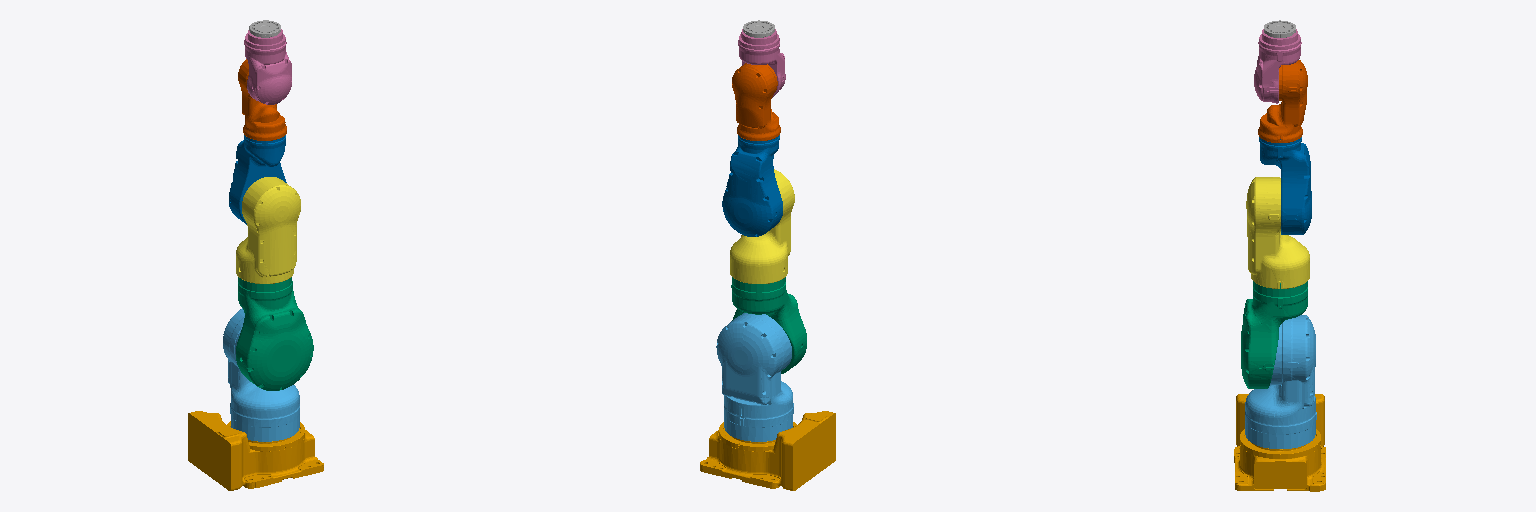
The robot description file, URDF, robot "sia20":
<?xml version="1.0" encoding="utf-8"?>
<!-- =================================================================================== -->
<!-- |    This document was autogenerated by xacro from sia20_with_gripper.urdf.xacro  | -->
<!-- |    EDITING THIS FILE BY HAND IS NOT RECOMMENDED                                 | -->
<!-- =================================================================================== -->
<robot name="sia20" xmlns:xacro="http://www.ros.org/wiki/xacro">
  <!-- base_link-->
  <link name="base_link">
    <inertial>
      <mass value="1.0"/>
      <origin rpy="0 0 0" xyz="0 0 0"/>
      <geometry>
        <mesh filename="package://sia20_description/meshes/base_link.STL"/>
      </geometry>
      <inertia ixx="0.001" ixy="0.001" ixz="0.001" iyy="0.001" iyz="0.001" izz="0.001"/>
    </inertial>
    <visual>
      <origin rpy="0 0 0" xyz="0 0 0"/>
      <geometry>
        <mesh filename="package://sia20_description/meshes/base_link.STL"/>
      </geometry>
      <material name="white"/>
    </visual>
    <collision>
      <origin rpy="0 0 0" xyz="0 0 0"/>
      <geometry>
        <mesh filename="package://sia20_description/meshes/base_link.STL"/>
      </geometry>
    </collision>
  </link>
  <!-- link_s-->
  <link name="link_s">
    <inertial>
      <mass value="1.0"/>
      <origin rpy="0 0 0" xyz="7.8023E-07 0.18911 -0.015611"/>
      <geometry>
        <mesh filename="package://sia20_description/meshes/link_s.STL"/>
      </geometry>
      <inertia ixx="0.001" ixy="0.001" ixz="0.001" iyy="0.001" iyz="0.001" izz="0.001"/>
    </inertial>
    <visual>
      <origin rpy="0 0 0" xyz="0 0 0"/>
      <geometry>
        <mesh filename="package://sia20_description/meshes/link_s.STL"/>
      </geometry>
      <material name="white"/>
    </visual>
    <collision>
      <origin rpy="0 0 0" xyz="0 0 0"/>
      <geometry>
        <mesh filename="package://sia20_description/meshes/link_s.STL"/>
      </geometry>
    </collision>
  </link>
  <!-- joint_s (base_link | joint_s) -->
  <joint name="joint_s" type="revolute">
    <origin rpy="1.5708 0 0" xyz="0 0 0.112"/>
    <parent link="base_link"/>
    <child link="link_s"/>
    <axis xyz="0 1 0"/>
    <limit effort="100" lower="-3.1415" upper="3.1415" velocity="2.2698"/>
    <!--
		<calibration rising="0" falling="0"/>
		<dynamics damping="0" fraction="0"/>
		<safety_controller soft_upper="0" soft_lower="0" k_position="0" k_velocity="0"/>
		-->
  </joint>
  <transmission name="joint_s_trans">
    <type>transimission_interface/SimpleTransmission</type>
    <joint name="joint_s">
      <hardwareInterface>hardware_interface/EffortJointInterface</hardwareInterface>
    </joint>
    <actuator name="joint_s_motor">
      <hardwareInterface>hardware_interface/EffortJointInterface</hardwareInterface>
      <mechanicalReduction>1</mechanicalReduction>
    </actuator>
  </transmission>
  <!-- link_l-->
  <link name="link_l">
    <inertial>
      <mass value="1.0"/>
      <origin rpy="0 0 0" xyz="1.6057E-05 0.10201 0.041335"/>
      <geometry>
        <mesh filename="package://sia20_description/meshes/link_l.STL"/>
      </geometry>
      <inertia ixx="0.001" ixy="0.001" ixz="0.001" iyy="0.001" iyz="0.001" izz="0.001"/>
    </inertial>
    <visual>
      <origin rpy="0 0 0" xyz="0 0 0"/>
      <geometry>
        <mesh filename="package://sia20_description/meshes/link_l.STL"/>
      </geometry>
      <material name="white"/>
    </visual>
    <collision>
      <origin rpy="0 0 0" xyz="0 0 0"/>
      <geometry>
        <mesh filename="package://sia20_description/meshes/link_l.STL"/>
      </geometry>
    </collision>
  </link>
  <!-- joint_l (link_s | joint_l) -->
  <joint name="joint_l" type="revolute">
    <origin rpy="0 0 0" xyz="0 0.298 0"/>
    <parent link="link_s"/>
    <child link="link_l"/>
    <axis xyz="0 0 1"/>
    <limit effort="100" lower="-1.9198" upper="1.9198" velocity="2.2698"/>
    <!--
		<calibration rising="0" falling="0"/>
		<dynamics damping="0" fraction="0"/>
		<safety_controller soft_upper="0" soft_lower="0" k_position="0" k_velocity="0"/>
		-->
  </joint>
  <transmission name="joint_l_trans">
    <type>transimission_interface/SimpleTransmission</type>
    <joint name="joint_l">
      <hardwareInterface>hardware_interface/EffortJointInterface</hardwareInterface>
    </joint>
    <actuator name="joint_l_motor">
      <hardwareInterface>hardware_interface/EffortJointInterface</hardwareInterface>
      <mechanicalReduction>1</mechanicalReduction>
    </actuator>
  </transmission>
  <!-- link_e-->
  <link name="link_e">
    <inertial>
      <mass value="1.0"/>
      <origin rpy="0 0 0" xyz="3.9186E-05 0.16471 0.020774"/>
      <geometry>
        <mesh filename="package://sia20_description/meshes/link_e.STL"/>
      </geometry>
      <inertia ixx="0.001" ixy="0.001" ixz="0.001" iyy="0.001" iyz="0.001" izz="0.001"/>
    </inertial>
    <visual>
      <origin rpy="0 0 0" xyz="0 0 0"/>
      <geometry>
        <mesh filename="package://sia20_description/meshes/link_e.STL"/>
      </geometry>
      <material name="white"/>
    </visual>
    <collision>
      <origin rpy="0 0 0" xyz="0 0 0"/>
      <geometry>
        <mesh filename="package://sia20_description/meshes/link_e.STL"/>
      </geometry>
    </collision>
  </link>
  <!-- joint_e (link_l | joint_e) -->
  <joint name="joint_e" type="revolute">
    <origin rpy="0 0 0" xyz="0 0.247135547651375 0"/>
    <parent link="link_l"/>
    <child link="link_e"/>
    <axis xyz="0 1 0"/>
    <limit effort="100" lower="-2.967" upper="2.967" velocity="2.2698"/>
    <!--
		<calibration rising="0" falling="0"/>
		<dynamics damping="0" fraction="0"/>
		<safety_controller soft_upper="0" soft_lower="0" k_position="0" k_velocity="0"/>
		-->
  </joint>
  <transmission name="joint_e_trans">
    <type>transimission_interface/SimpleTransmission</type>
    <joint name="joint_e">
      <hardwareInterface>hardware_interface/EffortJointInterface</hardwareInterface>
    </joint>
    <actuator name="joint_e_motor">
      <hardwareInterface>hardware_interface/EffortJointInterface</hardwareInterface>
      <mechanicalReduction>1</mechanicalReduction>
    </actuator>
  </transmission>
  <!-- link_u-->
  <link name="link_u">
    <inertial>
      <mass value="1.0"/>
      <origin rpy="0 0 0" xyz="-7.9992E-07 0.08472 -0.032542"/>
      <geometry>
        <mesh filename="package://sia20_description/meshes/link_u.STL"/>
      </geometry>
      <inertia ixx="0.001" ixy="0.001" ixz="0.001" iyy="0.001" iyz="0.001" izz="0.001"/>
    </inertial>
    <visual>
      <origin rpy="0 0 0" xyz="0 0 0"/>
      <geometry>
        <mesh filename="package://sia20_description/meshes/link_u.STL"/>
      </geometry>
      <material name="white"/>
    </visual>
    <collision>
      <origin rpy="0 0 0" xyz="0 0 0"/>
      <geometry>
        <mesh filename="package://sia20_description/meshes/link_u.STL"/>
      </geometry>
    </collision>
  </link>
  <!-- joint_u (link_e | joint_u) -->
  <joint name="joint_u" type="revolute">
    <origin rpy="0 0 0" xyz="0 0.242864452348634 0"/>
    <parent link="link_e"/>
    <child link="link_u"/>
    <axis xyz="0 0 1"/>
    <limit effort="100" lower="-2.967" upper="2.967" velocity="2.2698"/>
    <!--
		<calibration rising="0" falling="0"/>
		<dynamics damping="0" fraction="0"/>
		<safety_controller soft_upper="0" soft_lower="0" k_position="0" k_velocity="0"/>
		-->
  </joint>
  <transmission name="joint_u_trans">
    <type>transimission_interface/SimpleTransmission</type>
    <joint name="joint_u">
      <hardwareInterface>hardware_interface/EffortJointInterface</hardwareInterface>
    </joint>
    <actuator name="joint_u_motor">
      <hardwareInterface>hardware_interface/EffortJointInterface</hardwareInterface>
      <mechanicalReduction>1</mechanicalReduction>
    </actuator>
  </transmission>
  <!-- link_r-->
  <link name="link_r">
    <inertial>
      <mass value="1.0"/>
      <origin rpy="0 0 0" xyz="4.8678E-06 0.12569 -0.02028"/>
      <geometry>
        <mesh filename="package://sia20_description/meshes/link_r.STL"/>
      </geometry>
      <inertia ixx="0.001" ixy="0.001" ixz="0.001" iyy="0.001" iyz="0.001" izz="0.001"/>
    </inertial>
    <visual>
      <origin rpy="0 0 0" xyz="0 0 0"/>
      <geometry>
        <mesh filename="package://sia20_description/meshes/link_r.STL"/>
      </geometry>
      <material name="white"/>
    </visual>
    <collision>
      <origin rpy="0 0 0" xyz="0 0 0"/>
      <geometry>
        <mesh filename="package://sia20_description/meshes/link_r.STL"/>
      </geometry>
    </collision>
  </link>
  <!-- joint_r (link_u | joint_r) -->
  <joint name="joint_r" type="revolute">
    <origin rpy="0 0 0" xyz="0 0.23899999999989 0"/>
    <parent link="link_u"/>
    <child link="link_r"/>
    <axis xyz="0 1 0"/>
    <limit effort="100" lower="-3.1415" upper="3.1415" velocity="3.4906"/>
    <!--
		<calibration rising="0" falling="0"/>
		<dynamics damping="0" fraction="0"/>
		<safety_controller soft_upper="0" soft_lower="0" k_position="0" k_velocity="0"/>
		-->
  </joint>
  <transmission name="joint_r_trans">
    <type>transimission_interface/SimpleTransmission</type>
    <joint name="joint_r">
      <hardwareInterface>hardware_interface/EffortJointInterface</hardwareInterface>
    </joint>
    <actuator name="joint_r_motor">
      <hardwareInterface>hardware_interface/EffortJointInterface</hardwareInterface>
      <mechanicalReduction>1</mechanicalReduction>
    </actuator>
  </transmission>
  <!-- link_b-->
  <link name="link_b">
    <inertial>
      <mass value="1.0"/>
      <origin rpy="0 0 0" xyz="5.1667E-06 0.069849 0.019496"/>
      <geometry>
        <mesh filename="package://sia20_description/meshes/link_b.STL"/>
      </geometry>
      <inertia ixx="0.001" ixy="0.001" ixz="0.001" iyy="0.001" iyz="0.001" izz="0.001"/>
    </inertial>
    <visual>
      <origin rpy="0 0 0" xyz="0 0 0"/>
      <geometry>
        <mesh filename="package://sia20_description/meshes/link_b.STL"/>
      </geometry>
      <material name="white"/>
    </visual>
    <collision>
      <origin rpy="0 0 0" xyz="0 0 0"/>
      <geometry>
        <mesh filename="package://sia20_description/meshes/link_b.STL"/>
      </geometry>
    </collision>
  </link>
  <!-- joint_b (link_r | joint_b) -->
  <joint name="joint_b" type="revolute">
    <origin rpy="0 0 0" xyz="0 0.181 0"/>
    <parent link="link_r"/>
    <child link="link_b"/>
    <axis xyz="0 0 1"/>
    <limit effort="100" lower="-1.9198" upper="1.9198" velocity="3.4906"/>
    <!--
		<calibration rising="0" falling="0"/>
		<dynamics damping="0" fraction="0"/>
		<safety_controller soft_upper="0" soft_lower="0" k_position="0" k_velocity="0"/>
		-->
  </joint>
  <transmission name="joint_b_trans">
    <type>transimission_interface/SimpleTransmission</type>
    <joint name="joint_b">
      <hardwareInterface>hardware_interface/EffortJointInterface</hardwareInterface>
    </joint>
    <actuator name="joint_b_motor">
      <hardwareInterface>hardware_interface/EffortJointInterface</hardwareInterface>
      <mechanicalReduction>1</mechanicalReduction>
    </actuator>
  </transmission>
  <!-- link_t-->
  <link name="link_t">
    <inertial>
      <mass value="1.0"/>
      <origin rpy="0 0 0" xyz="-0.00019051 0.0087466 -2.475E-05"/>
      <geometry>
        <mesh filename="package://sia20_description/meshes/link_t.STL"/>
      </geometry>
      <inertia ixx="0.001" ixy="0.001" ixz="0.001" iyy="0.001" iyz="0.001" izz="0.001"/>
    </inertial>
    <visual>
      <origin rpy="0 0 0" xyz="0 0 0"/>
      <geometry>
        <mesh filename="package://sia20_description/meshes/link_t.STL"/>
      </geometry>
      <material name="white"/>
    </visual>
    <collision>
      <origin rpy="0 0 0" xyz="0 0 0"/>
      <geometry>
        <mesh filename="package://sia20_description/meshes/link_t.STL"/>
      </geometry>
    </collision>
  </link>
  <!-- joint_t (link_b | joint_t) -->
  <joint name="joint_t" type="revolute">
    <origin rpy="0 0 0" xyz="0 0.164069662461231 0.0015"/>
    <parent link="link_b"/>
    <child link="link_t"/>
    <axis xyz="0 1 0"/>
    <limit effort="100" lower="-3.1415" upper="3.1415" velocity="7.0"/>
    <!--
		<calibration rising="0" falling="0"/>
		<dynamics damping="0" fraction="0"/>
		<safety_controller soft_upper="0" soft_lower="0" k_position="0" k_velocity="0"/>
		-->
  </joint>
  <transmission name="joint_t_trans">
    <type>transimission_interface/SimpleTransmission</type>
    <joint name="joint_t">
      <hardwareInterface>hardware_interface/EffortJointInterface</hardwareInterface>
    </joint>
    <actuator name="joint_t_motor">
      <hardwareInterface>hardware_interface/EffortJointInterface</hardwareInterface>
      <mechanicalReduction>1</mechanicalReduction>
    </actuator>
  </transmission>
  <!-- link tool0-->
  <link name="tool0"/>
  <!-- joint link_t-tool0 -->
  <joint name="link_t-tool0" type="fixed">
    <origin rpy="0 0 -3.1415" xyz="0 0 0"/>
    <parent link="link_t"/>
    <child link="tool0"/>
  </joint>
  <!-- link fixed in order to stand rigidly in gazebo -->
  <link name="world"/>
  <joint name="fixed" type="fixed">
    <parent link="world"/>
    <child link="base_link"/>
  </joint>
  <!-- ros_control_plugin-->
  <gazebo>
    <plugin filename="libgazebo_ros_control.so" name="gazebo_ros_control">
      <robotNamespace>/sia20</robotNamespace>
    </plugin>
    <mu1>0.1</mu1>
    <mu2>0.1</mu2>
  </gazebo>
  <link name="left_gripper">
    <collision>
      <origin rpy="0 0 0" xyz="0 0 0"/>
      <geometry>
        <mesh filename="package://urdf_tutorial/meshes/l_finger.dae"/>
      </geometry>
    </collision>
    <inertial>
      <mass value="0.01"/>
      <inertia ixx="0.001" ixy="0.001" ixz="0.001" iyy="0.001" iyz="0.001" izz="0.001"/>
    </inertial>
    <visual>
      <origin rpy="0 0 0" xyz="0 0 0"/>
      <geometry>
        <mesh filename="package://urdf_tutorial/meshes/l_finger.dae"/>
      </geometry>
    </visual>
  </link>
  <link name="right_gripper">
    <collision>
      <origin rpy="0 0 0" xyz="0 0 0"/>
      <geometry>
        <mesh filename="package://urdf_tutorial/meshes/r_finger.dae"/>
      </geometry>
    </collision>
    <inertial>
      <mass value="0.01"/>
      <inertia ixx="0.001" ixy="0.001" ixz="0.001" iyy="0.001" iyz="0.001" izz="0.001"/>
    </inertial>
    <visual>
      <origin rpy="0 0 0" xyz="0 0 0"/>
      <geometry>
        <mesh filename="package://urdf_tutorial/meshes/r_finger.dae"/>
      </geometry>
    </visual>
  </link>
  <!-- concatenate gripper to robot -->
  <joint name="wrist_to_l" type="fixed">
    <parent link="tool0"/>
    <child link="left_gripper"/>
  </joint>
  <joint name="wrist_to_r" type="fixed">
    <parent link="tool0"/>
    <child link="right_gripper"/>
  </joint>
</robot>

--- Render facts (derived) ---
3 views of the same robot in one strip: view 1: azimuth 30°, elevation 25°; view 2: azimuth 150°, elevation 25°; view 3: azimuth 270°, elevation 25° (orthographic).
Model sia20 with 12 links and 11 joints (7 revolute, 4 fixed), rooted at world, posed every joint at zero.
Visible links, largest first — view 1: link_l, base_link, link_e, link_s, link_b, link_u, link_r; view 2: link_s, base_link, link_u, link_e, link_r, link_l, link_b; view 3: link_s, base_link, link_e, link_l, link_u, link_r, link_b.
Boxes of the visible links, <box> form: link_l: <box>236,277,313,390</box>; base_link: <box>188,411,323,490</box>; link_e: <box>236,177,300,283</box>; link_s: <box>223,308,299,441</box>; link_b: <box>244,29,291,104</box>; link_u: <box>229,135,286,224</box>; link_r: <box>238,59,286,140</box>; link_s: <box>716,313,793,441</box>; base_link: <box>700,411,835,490</box>; link_u: <box>722,135,782,236</box>; link_e: <box>730,169,794,283</box>; link_r: <box>732,63,780,140</box>; link_l: <box>731,277,806,373</box>; link_b: <box>738,29,785,97</box>; link_s: <box>1245,315,1316,448</box>; base_link: <box>1234,394,1325,491</box>; link_e: <box>1246,177,1309,288</box>; link_l: <box>1241,281,1307,388</box>; link_u: <box>1259,137,1311,234</box>; link_r: <box>1258,60,1307,142</box>; link_b: <box>1254,29,1301,103</box>.
Size in the robot's own frame: 0.343 by 0.283 by 1.5 metres.
8 mesh visuals loaded from 10 distinct referenced files (8 binary STL); not drawn: 2 (reference not matched to a file when rendering).